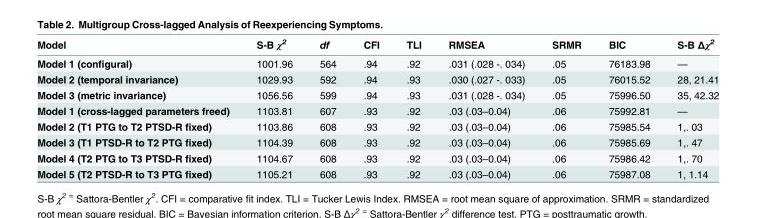table: (36, 36, 718, 179)
table column: (36, 36, 242, 179), (434, 36, 537, 179), (594, 36, 663, 179), (242, 36, 305, 179), (537, 36, 594, 179), (663, 36, 718, 179), (305, 36, 349, 179), (349, 36, 392, 179), (392, 36, 434, 179)
table column header: (36, 36, 718, 53)
table row: (36, 36, 718, 53), (36, 53, 718, 70), (36, 70, 718, 86), (36, 86, 718, 102), (36, 102, 718, 118), (36, 118, 718, 134), (36, 149, 718, 165), (36, 134, 718, 149), (36, 165, 718, 179)
